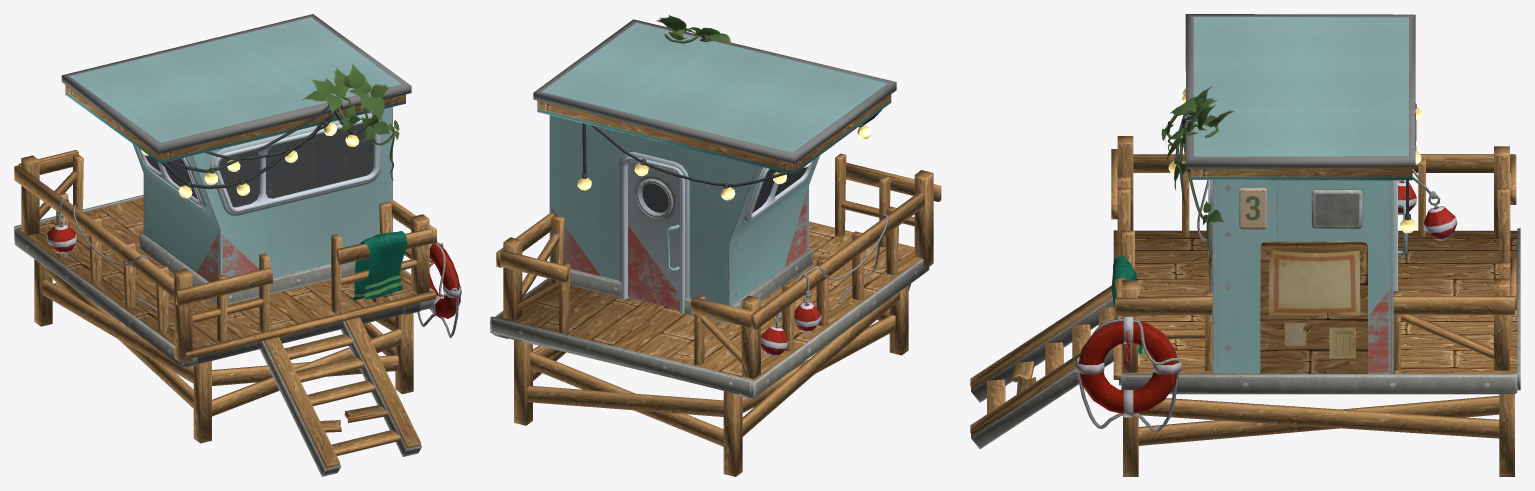
The model's file is prop_socorrista.glb.
3 renders of one model, left to right at view 1: azimuth 30°, elevation 25°; view 2: azimuth 150°, elevation 25°; view 3: azimuth 270°, elevation 25°, orthographic. The views are drawn at different scales.
Parts seen in each view (by area): view 1: Object_2, Object_3; view 2: Object_3, Object_2; view 3: Object_3, Object_2.
Boxes of the visible parts, <box> form: Object_2: <box>61,14,411,300</box>; Object_3: <box>14,150,461,476</box>; Object_3: <box>490,153,941,476</box>; Object_2: <box>533,15,896,313</box>; Object_3: <box>970,136,1520,476</box>; Object_2: <box>1111,14,1421,373</box>.
Bounding box in the file's own units: 0.5248 × 0.555 × 0.7589.
Materials: 2 (2 with a texture image).
